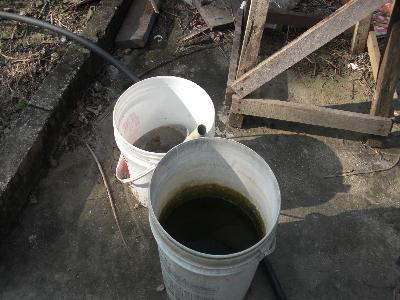bucket: (148, 137, 282, 300), (111, 73, 216, 209)
